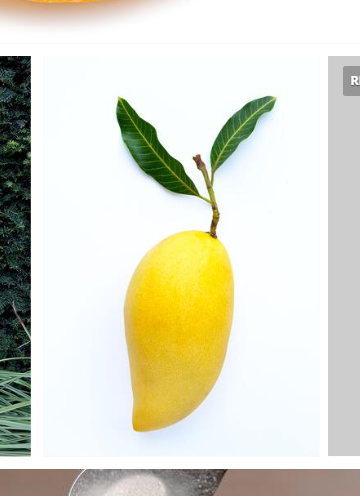mango: (120, 227, 236, 432)
